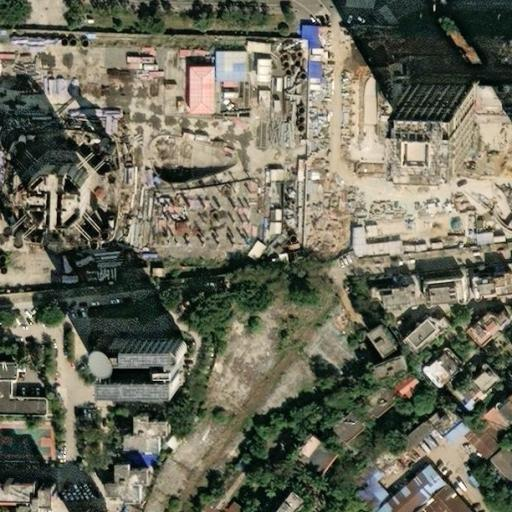building: (379, 181, 488, 245), (411, 81, 477, 148), (100, 336, 179, 383), (368, 466, 440, 512), (38, 161, 90, 218), (452, 356, 503, 407), (399, 313, 447, 358), (456, 422, 498, 465), (418, 347, 461, 389), (97, 464, 141, 505), (0, 479, 51, 512), (116, 416, 159, 454), (367, 283, 418, 314), (0, 383, 44, 417), (294, 438, 332, 477), (464, 313, 500, 349), (256, 480, 295, 512), (423, 281, 467, 309), (428, 408, 464, 442), (424, 485, 465, 512), (207, 51, 240, 82), (403, 424, 437, 454), (485, 448, 512, 485), (348, 483, 382, 512), (327, 413, 358, 444), (378, 358, 412, 384), (372, 329, 400, 360), (393, 375, 421, 402), (469, 277, 494, 299), (495, 402, 512, 431), (492, 276, 512, 300), (238, 241, 257, 261), (357, 462, 375, 482), (220, 497, 244, 512), (239, 41, 262, 53), (502, 336, 512, 356), (67, 507, 107, 512), (355, 315, 369, 329), (320, 235, 334, 249), (259, 168, 270, 181), (213, 82, 228, 88)
